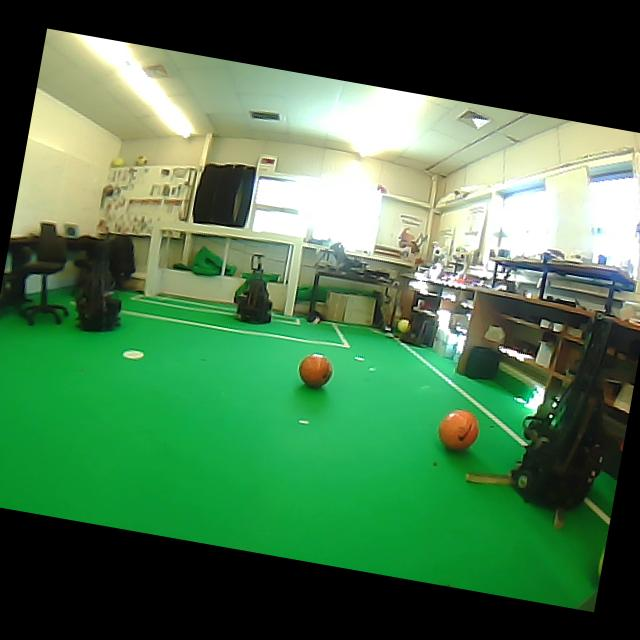ball: (438, 409, 478, 450), (298, 353, 332, 387), (396, 318, 409, 333), (110, 157, 124, 167), (134, 155, 147, 165)
goal: (143, 221, 163, 296), (283, 237, 302, 315)
robot: (511, 318, 611, 509), (76, 261, 121, 331), (234, 253, 271, 323)
